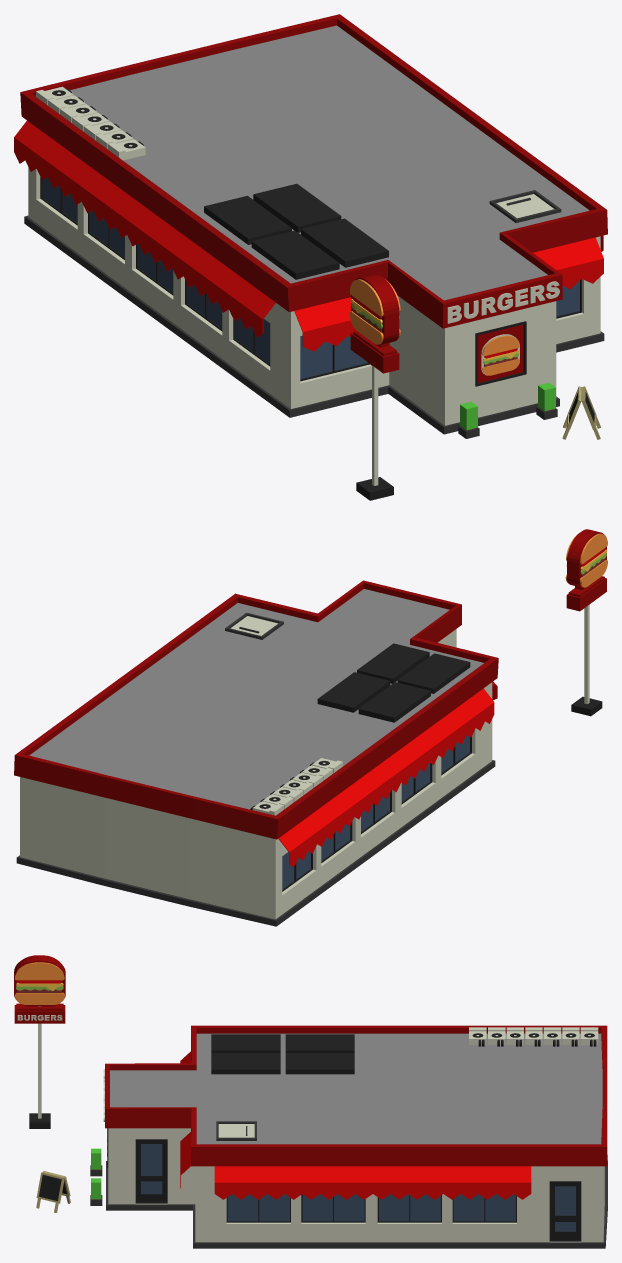
The model's file is burger.glb.
The picture shows the model from 3 angles, top to bottom: view 1: azimuth 30°, elevation 25°; view 2: azimuth 150°, elevation 25°; view 3: azimuth 270°, elevation 25°; orthographic projection. The views are drawn at different scales.
Parts seen in each view (by area): view 1: Burger house; view 2: Burger house; view 3: Burger house.
Boxes of the visible parts, x1,y1,x2,y2 form: Burger house: (14,14,607,500); Burger house: (14,529,607,926); Burger house: (14,955,607,1248).
Size of the model in its own units: 10 by 5.79 by 18.75.
